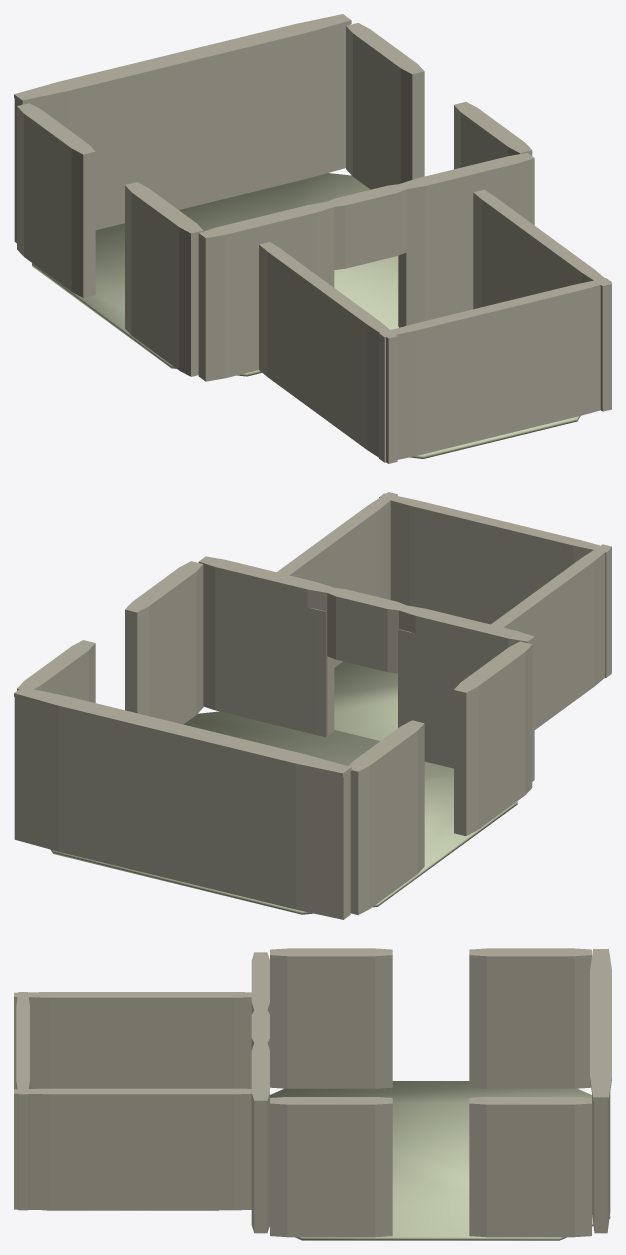
Rendered from R4_Shell.fbx.
The picture shows the model from 3 angles, top to bottom: view 1: azimuth 30°, elevation 25°; view 2: azimuth 150°, elevation 25°; view 3: azimuth 270°, elevation 25°; orthographic projection. The views are drawn at different scales.
Parts seen in each view (by area): view 1: R4_Shell; view 2: R4_Shell; view 3: R4_Shell.
Part boxes in pixels (left/top/right/bottom): R4_Shell: left=14, top=14, right=611, bottom=463; R4_Shell: left=14, top=492, right=611, bottom=919; R4_Shell: left=14, top=948, right=611, bottom=1240.
Size of the model in its own units: 40.4 by 16.8 by 65.4.
